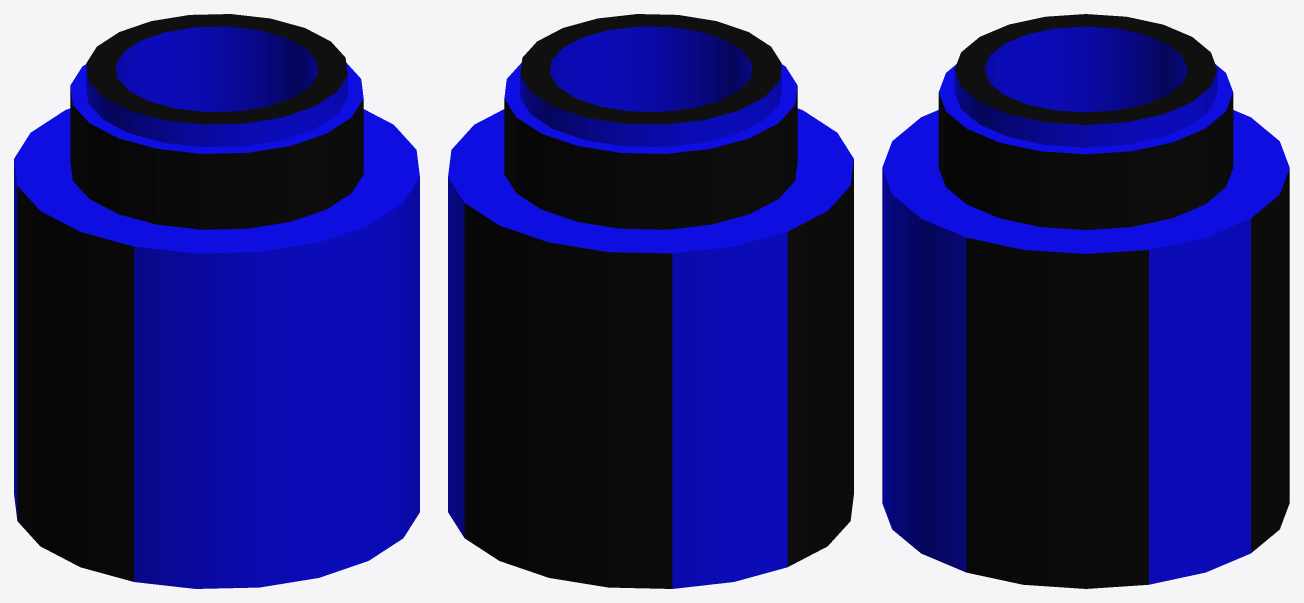
Rendered from shooter_L.obj.
3 renders of one model, left to right at view 1: azimuth 30°, elevation 25°; view 2: azimuth 150°, elevation 25°; view 3: azimuth 270°, elevation 25°, orthographic.
Visible parts, largest first — view 1: pCylinder3; view 2: pCylinder3; view 3: pCylinder3.
Boxes of the visible parts, x1,y1,x2,y2 form: pCylinder3: (14,14,419,588); pCylinder3: (448,14,853,588); pCylinder3: (882,14,1289,588).
Bounding box in the file's own units: 1.77 × 2.08 × 1.77.
